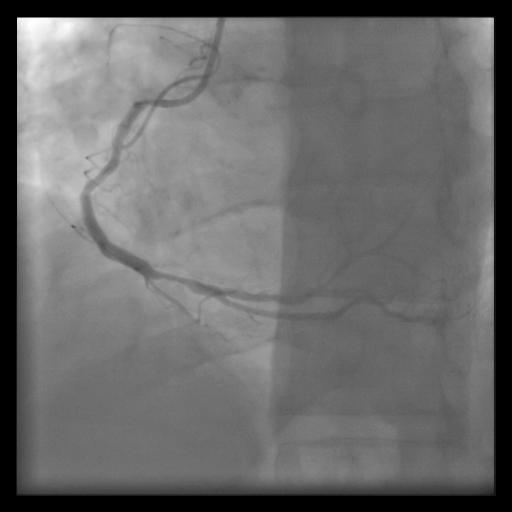Stenosis: (151, 259, 199, 299)
